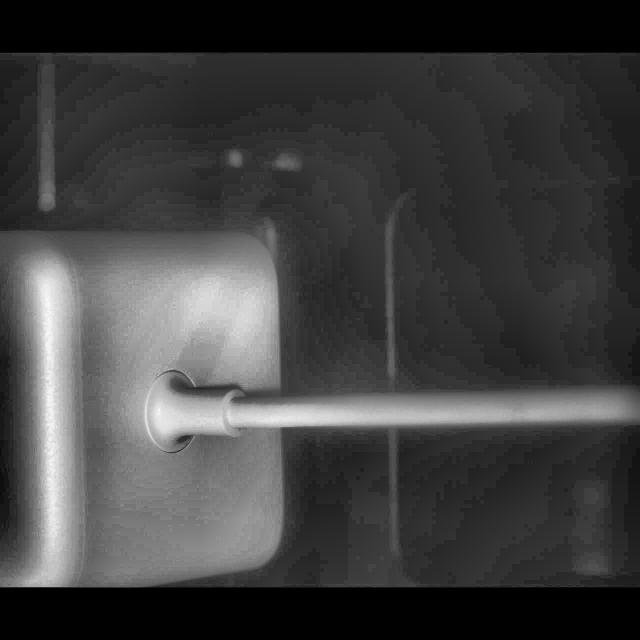Cable: (0, 226, 640, 588)
